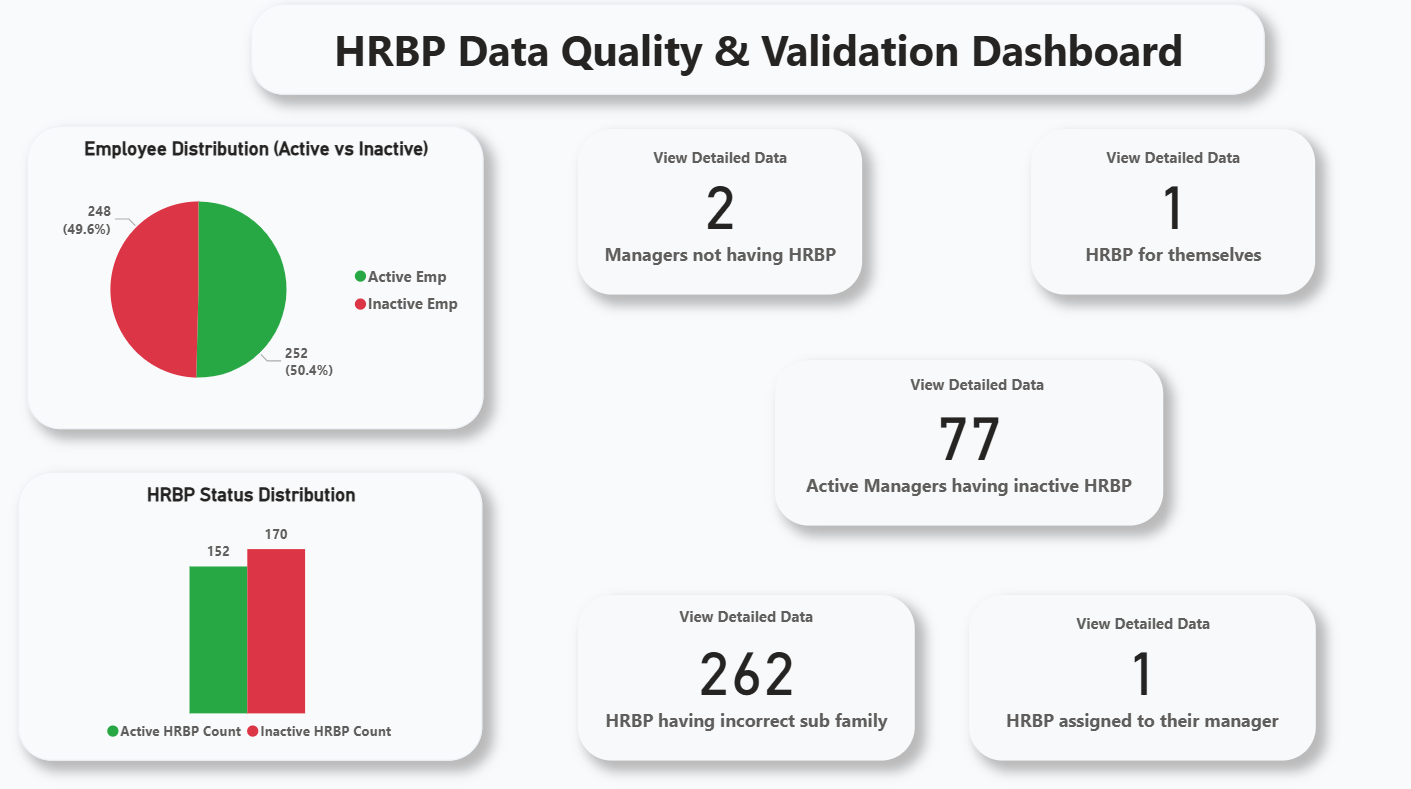

The dashboard page shown, as its layout file describes it:
{"tool":"powerbi","page":{"name":"HRBP Data Quality & Validation Dashboard","canvas":[1280,720],"ordinal":0},"visuals":[{"type":"textbox","box":[230.5,9.7,905.5,80.7],"z":0},{"type":"card","fields":{"Values":["All Measures.Managers not having HRBP"]},"box":[523.2,121.9,254.3,147.8],"z":0,"group":"g1"},{"type":"card","fields":{"Values":["All Measures.HRBP for themselves"]},"box":[928,121.9,254.3,147.8],"z":0,"group":"g2"},{"type":"card","fields":{"Values":["All Measures.Active Supervisor having inactive HRBP"]},"box":[698.7,327.8,346.6,147.8],"z":0,"group":"g3"},{"type":"card","fields":{"Values":["All Measures.HRBP having incorrect sub family"]},"box":[523.2,538.3,300.9,147.8],"z":0,"group":"g4"},{"type":"card","fields":{"Values":["All Measures.HRBP are HRBP for their manager"]},"box":[872.4,538.3,309.9,147.8],"z":0,"group":"g5"},{"type":"pieChart","title":"Employee Distribution (Active vs Inactive)","fields":{"Y":["All Measures.Active Emp","All Measures.Inactive Emp"]},"box":[30.2,118.7,407.5,271.4],"z":1000},{"type":"actionButton","box":[554.5,128.2,191.6,37.6],"z":1000,"group":"g1"},{"type":"actionButton","box":[959.3,128.2,191.6,37.6],"z":1000,"group":"g2"},{"type":"actionButton","box":[783.8,330.5,191.6,37.6],"z":1000,"group":"g3"},{"type":"actionButton","box":[577.8,538.3,191.6,37.6],"z":1000,"group":"g4"},{"type":"actionButton","box":[932.4,544.6,191.6,37.6],"z":1000,"group":"g5"},{"type":"clusteredColumnChart","title":"HRBP Status Distribution","fields":{"Y":["All Measures.Active HRBP Count","All Measures.Inactive HRBP Count"]},"box":[22.4,428,415.3,257.8],"z":2000},{"type":"group","id":"g1","title":"Group 1","box":[523.2,121.9,254.3,147.8],"z":3000},{"type":"group","id":"g2","title":"Group 4","box":[928,121.9,254.3,147.8],"z":4000},{"type":"group","id":"g3","title":"Group 2","box":[698.7,327.8,346.6,147.8],"z":5000},{"type":"group","id":"g4","title":"Group 5","box":[523.2,538.3,300.9,147.8],"z":6000},{"type":"group","id":"g5","title":"Group 3","box":[872.4,538.3,309.9,147.8],"z":7000}]}

Visuals, with their boxes in screenshot pixels (x1, y1, x2, y2), scaled from the page's 1280x720 canvas onto the 1411x789 screenshot:
textbox: {"left": 254, "top": 11, "right": 1252, "bottom": 99}
card - All Measures.Managers not having HRBP: {"left": 577, "top": 134, "right": 857, "bottom": 296}
card - All Measures.HRBP for themselves: {"left": 1023, "top": 134, "right": 1303, "bottom": 296}
card - All Measures.Active Supervisor having inactive HRBP: {"left": 770, "top": 359, "right": 1152, "bottom": 521}
card - All Measures.HRBP having incorrect sub family: {"left": 577, "top": 590, "right": 908, "bottom": 752}
card - All Measures.HRBP are HRBP for their manager: {"left": 962, "top": 590, "right": 1303, "bottom": 752}
"Employee Distribution (Active vs Inactive)" pieChart: {"left": 33, "top": 130, "right": 482, "bottom": 427}
actionButton: {"left": 611, "top": 140, "right": 822, "bottom": 182}
actionButton: {"left": 1057, "top": 140, "right": 1269, "bottom": 182}
actionButton: {"left": 864, "top": 362, "right": 1075, "bottom": 403}
actionButton: {"left": 637, "top": 590, "right": 848, "bottom": 631}
actionButton: {"left": 1028, "top": 597, "right": 1239, "bottom": 638}
"HRBP Status Distribution" clusteredColumnChart: {"left": 25, "top": 469, "right": 482, "bottom": 752}
"Group 1" group: {"left": 577, "top": 134, "right": 857, "bottom": 296}
"Group 4" group: {"left": 1023, "top": 134, "right": 1303, "bottom": 296}
"Group 2" group: {"left": 770, "top": 359, "right": 1152, "bottom": 521}
"Group 5" group: {"left": 577, "top": 590, "right": 908, "bottom": 752}
"Group 3" group: {"left": 962, "top": 590, "right": 1303, "bottom": 752}
